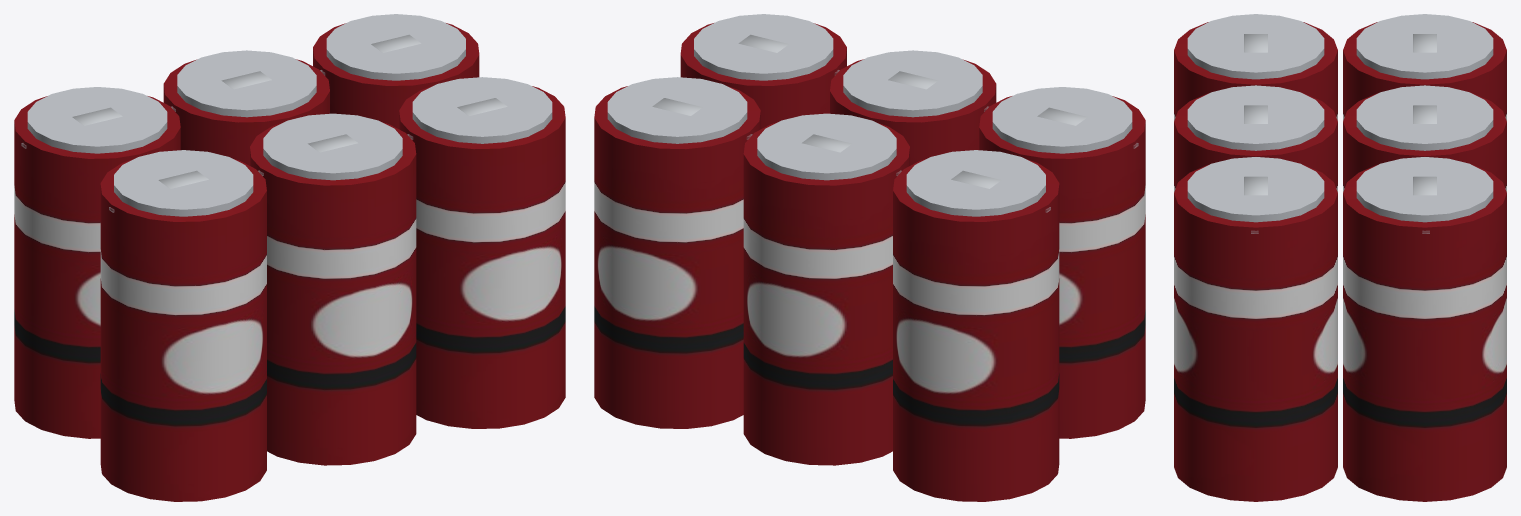
Rendered from can_sixpack_cola.glb.
The picture shows the model from 3 angles, left to right: view 1: azimuth 30°, elevation 25°; view 2: azimuth 150°, elevation 25°; view 3: azimuth 270°, elevation 25°; orthographic projection. The views are drawn at different scales.
Parts seen in each view (by area): view 1: can_sixpack_cola; view 2: can_sixpack_cola; view 3: can_sixpack_cola.
Part boxes in pixels (<box>): can_sixpack_cola: <box>14,14,565,501</box>; can_sixpack_cola: <box>594,14,1145,501</box>; can_sixpack_cola: <box>1174,14,1506,501</box>.
Size of the model in its own units: 0.2 by 0.1231 by 0.132.
Materials: 4 (1 with a texture image).
